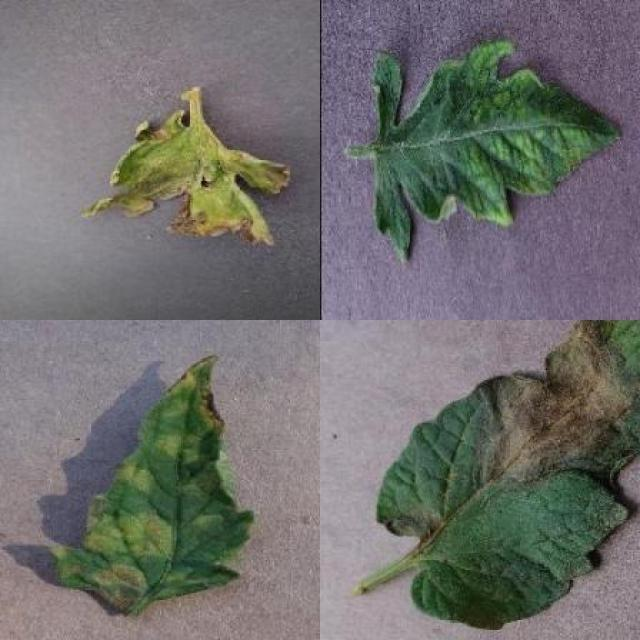Late Blight: (377, 320, 640, 630), (78, 105, 292, 248)
Leaf Mold: (52, 354, 251, 616)
Mosaic Virus: (367, 40, 623, 266)
